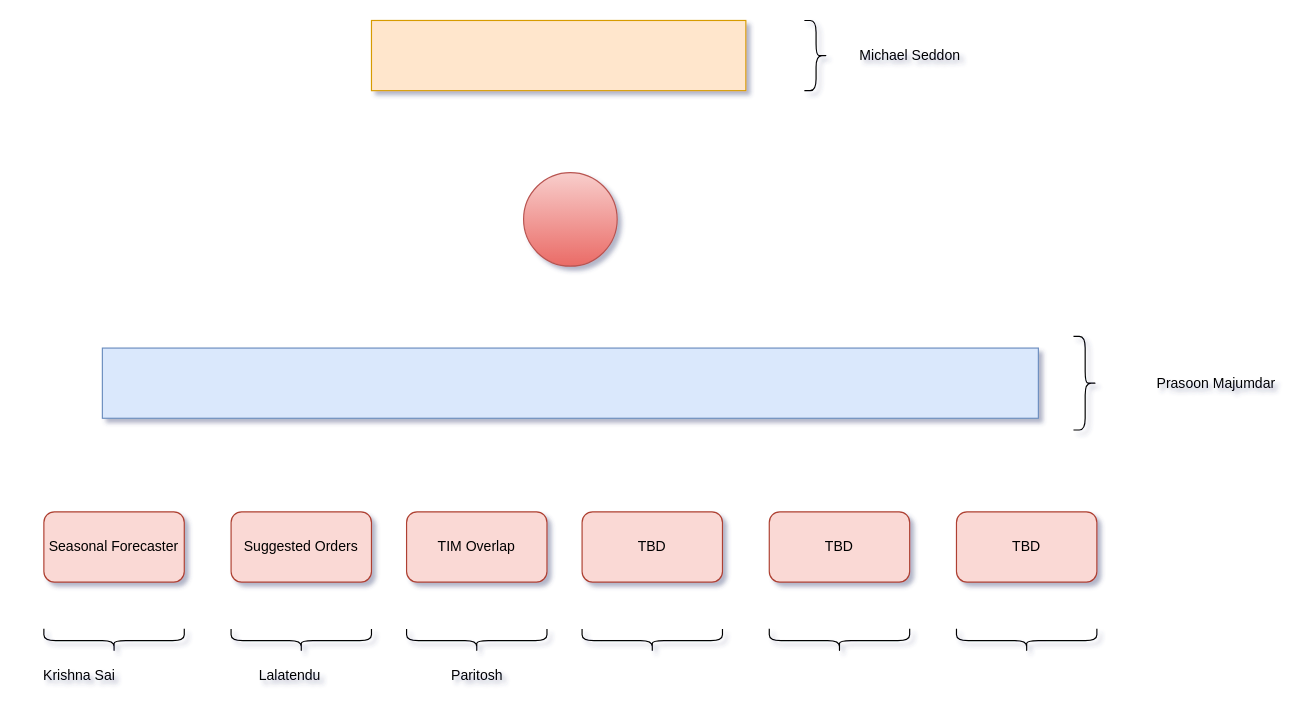
This 1308x715 diagram has some shape labels left out. The centre of each missing label's shape, as x and y in pixels:
CH Global Automation Product - DataScience Tool Box: [569,382]
Data Engineering Function: [558,55]
Pivot: [569,218]
